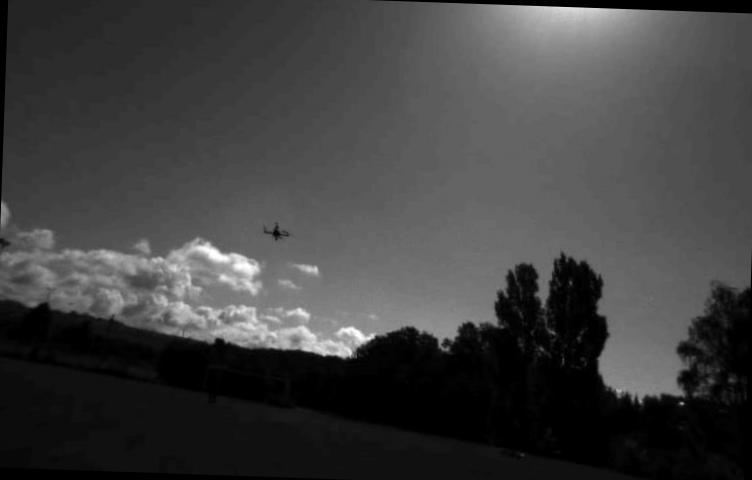drone: (260, 218, 293, 242)
